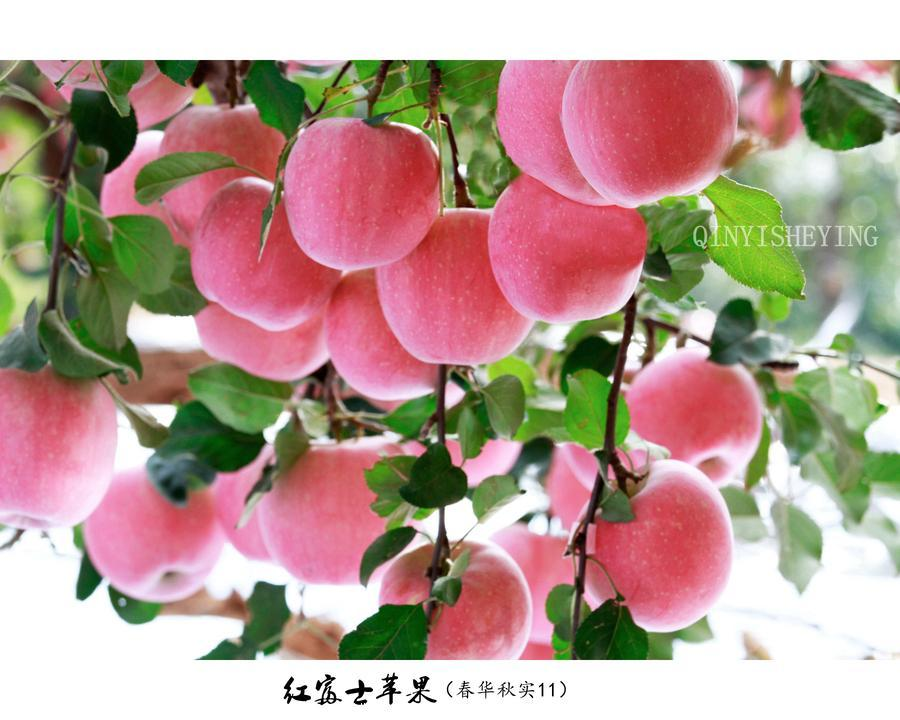apple: (567, 465, 734, 635), (555, 58, 739, 208), (1, 360, 115, 540), (621, 350, 762, 482), (396, 542, 532, 665)
